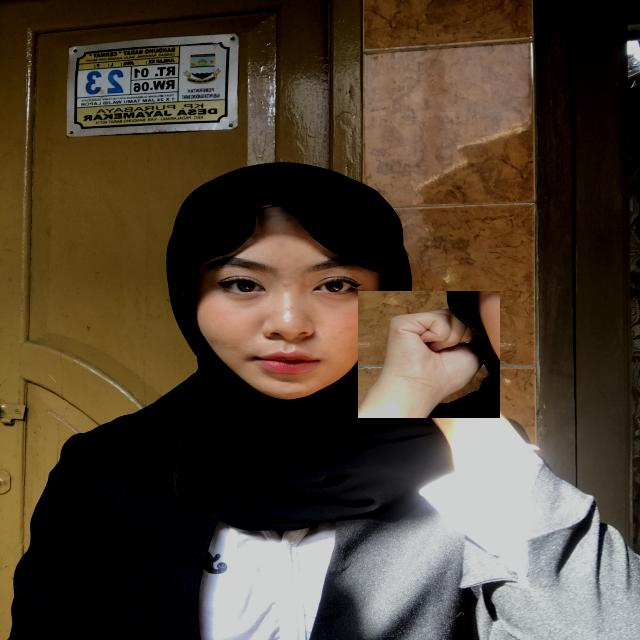ibu: (358, 291, 501, 418)
